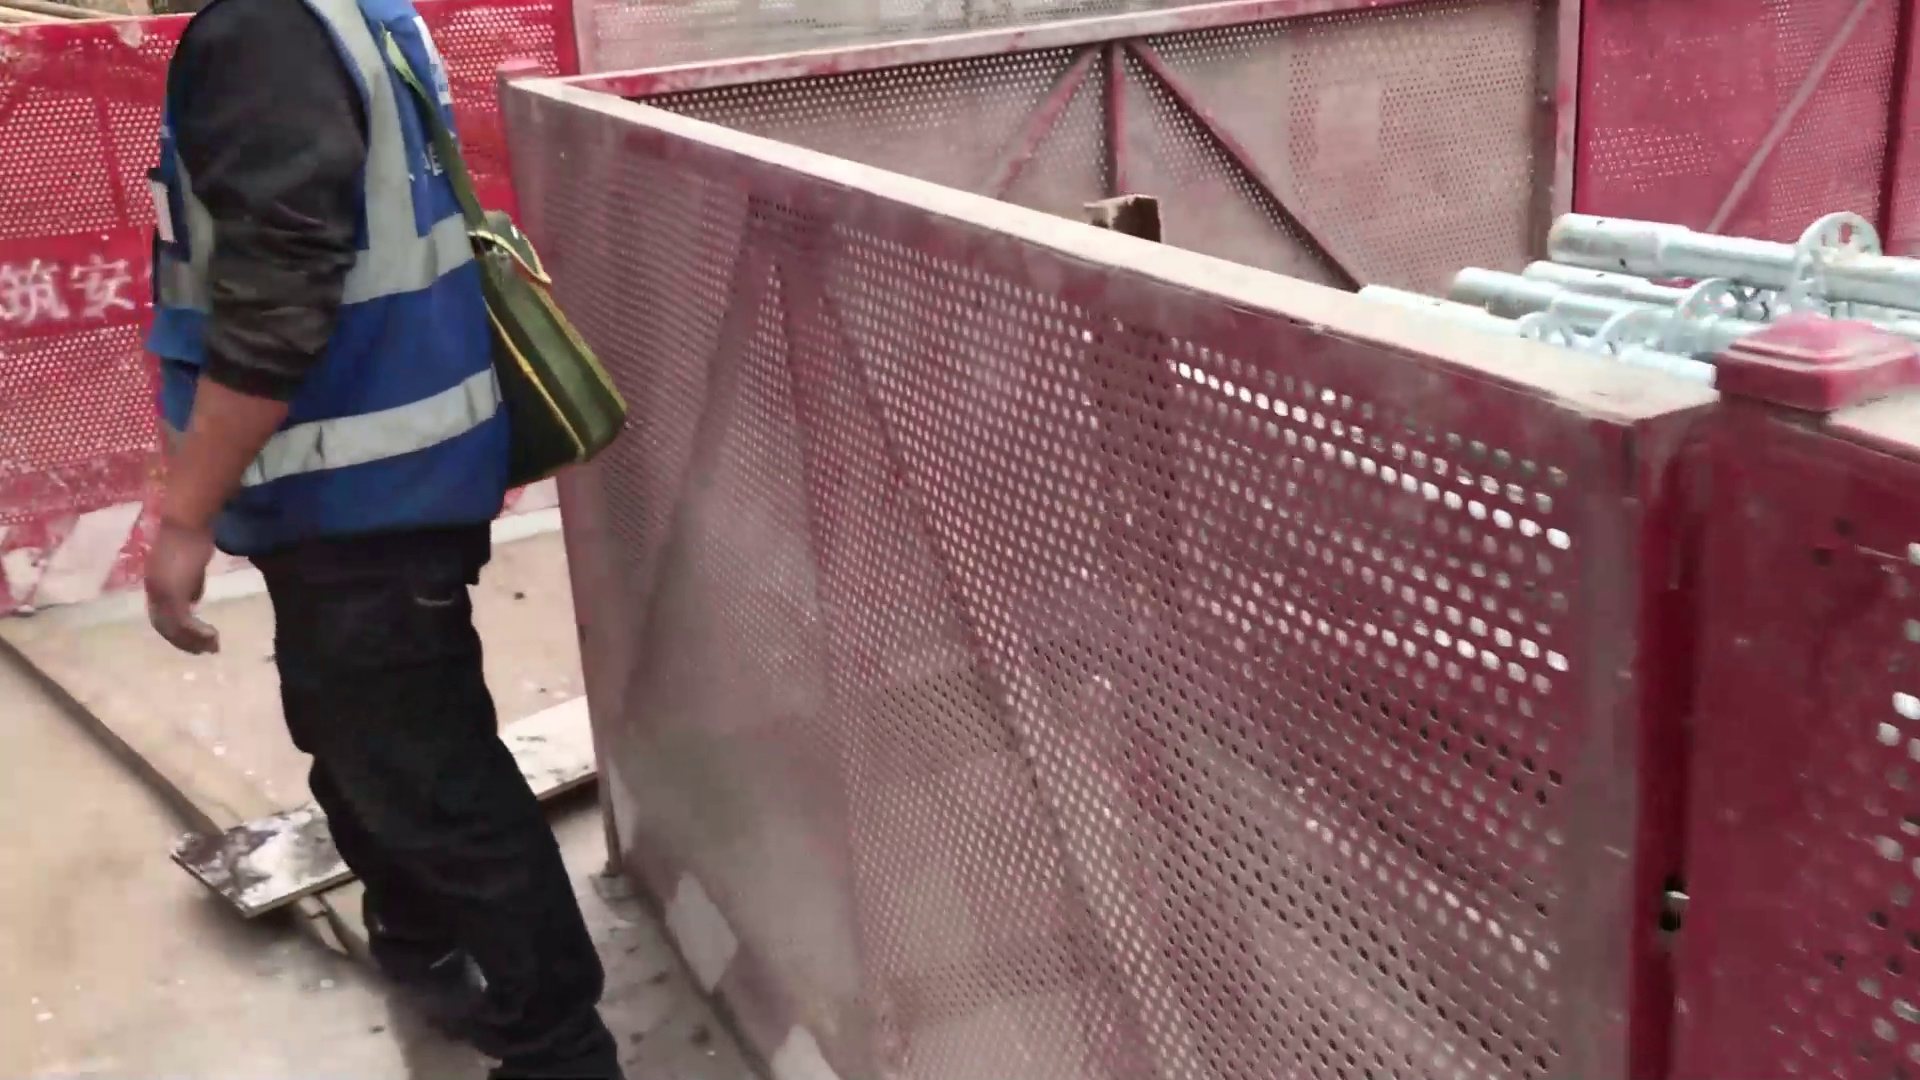fence: (526, 59, 1740, 1056)
person: (122, 1, 647, 1074)
vest: (129, 1, 544, 546)
